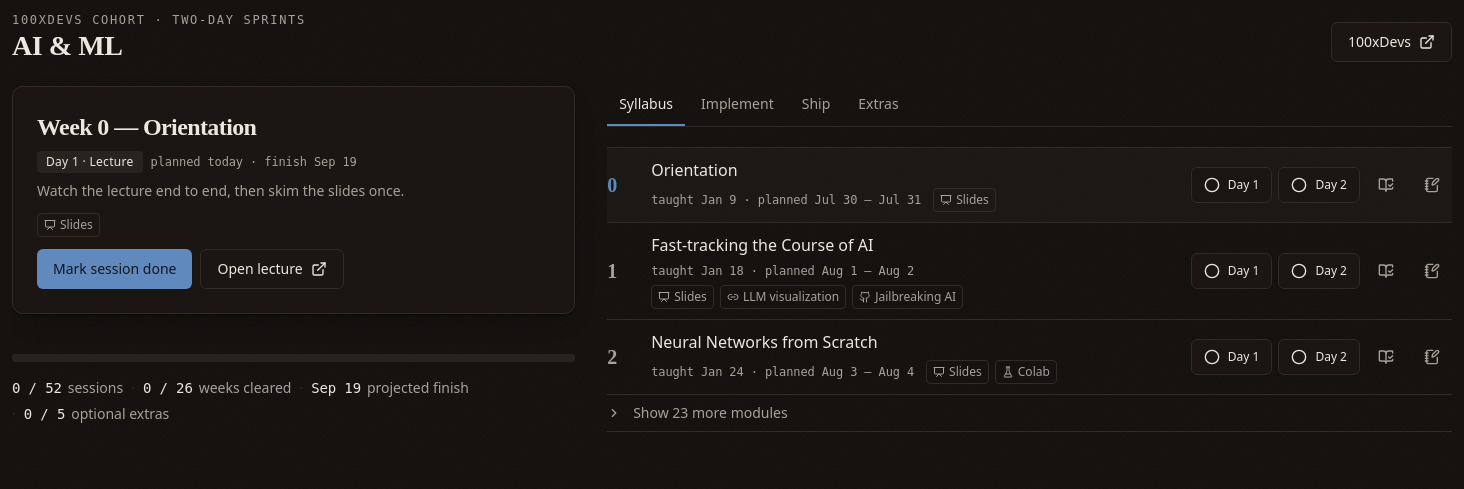
Test: AimlCoursePage › extras section lists the 5 optional sessions with single controls
Step 1. Press the mouse on the tab "Extras" → (878, 106), box [846,86,911,126]
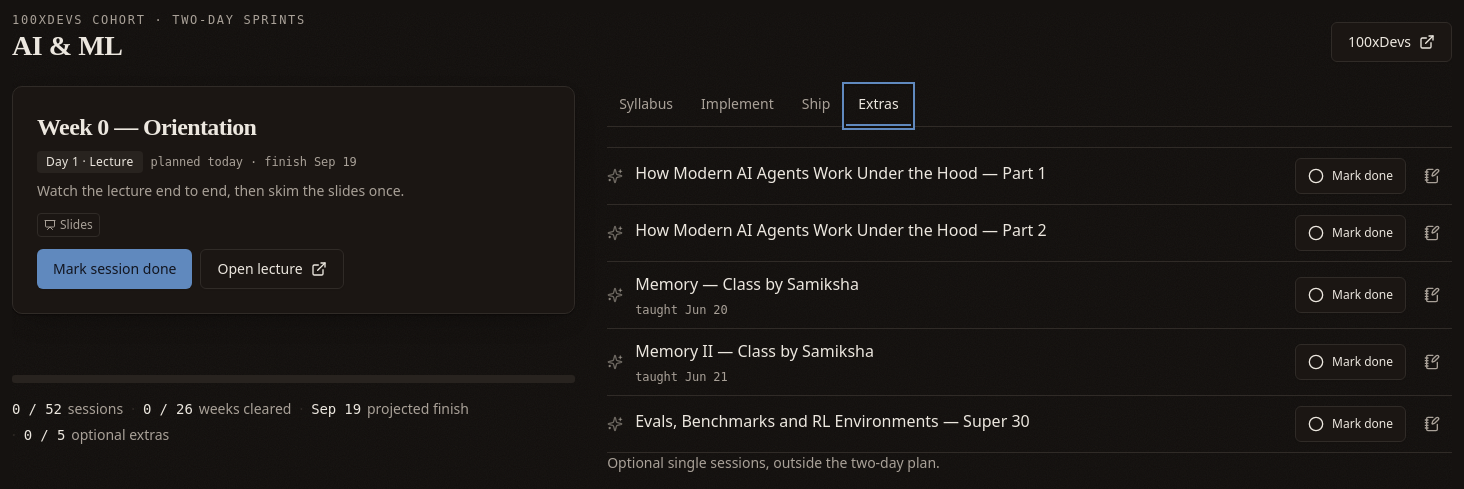
Result: the text "Memory — Class by Samiksha" is shown at [635,273,859,295]
Result: the number of buttons "Mark done" is 5 at [1295,158,1406,194]; [1295,215,1406,251]; [1295,277,1406,313]; [1295,344,1406,380]; [1295,406,1406,442]
